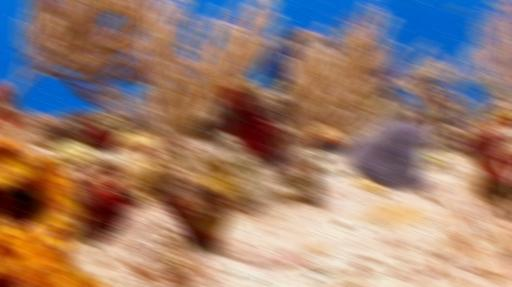Fish: (256, 78, 275, 92), (425, 155, 446, 167), (489, 114, 511, 120), (278, 38, 291, 48), (448, 7, 465, 13), (486, 2, 505, 7), (432, 85, 445, 92), (443, 155, 460, 159)
